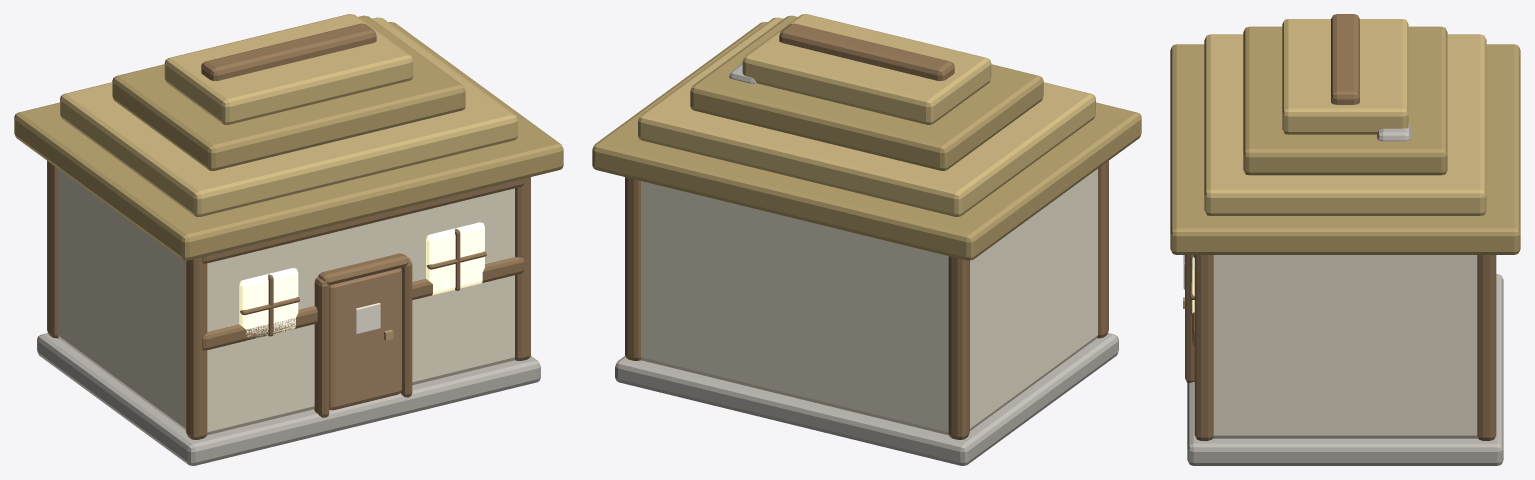
The model's file is cottage.glb.
The picture shows the model from 3 angles, left to right: view 1: azimuth 30°, elevation 25°; view 2: azimuth 150°, elevation 25°; view 3: azimuth 270°, elevation 25°; orthographic projection.
Parts seen in each view (by area): view 1: Body, Roof_1, Roof_2, Roof_3, Foundation, Roof_4, Door, Ridge, Beam_FL, Window_R, Window_L, Beam_Mid_F (+7 smaller); view 2: Body, Roof_1, Roof_2, Roof_3, Foundation, Roof_4, Beam_BL, Ridge, Beam_BR, Beam_FL; view 3: Body, Roof_1, Roof_2, Roof_3, Roof_4, Foundation, Beam_BR, Beam_FR, Ridge, Door_Frame_R, Chimney.
Boxes of the visible parts, x1,y1,x2,y2 form: Body: (58, 169, 514, 435); Roof_1: (14, 22, 563, 260); Roof_2: (60, 17, 517, 216); Roof_3: (112, 15, 465, 170); Foundation: (37, 333, 540, 465); Roof_4: (164, 14, 413, 124); Door: (329, 268, 401, 410); Ridge: (201, 23, 376, 80); Beam_FL: (186, 257, 207, 439); Window_R: (426, 222, 484, 295); Window_L: (239, 268, 298, 339); Beam_Mid_F: (202, 257, 524, 350); Body: (641, 169, 1097, 435); Roof_1: (592, 22, 1141, 260); Roof_2: (638, 17, 1095, 216); Roof_3: (690, 15, 1043, 170); Foundation: (615, 333, 1118, 465); Roof_4: (742, 14, 991, 124); Beam_BL: (948, 256, 969, 439); Ridge: (779, 23, 954, 80); Beam_BR: (625, 177, 640, 360); Beam_FL: (1097, 161, 1108, 338); Body: (1213, 255, 1477, 438); Roof_1: (1170, 44, 1520, 254); Roof_2: (1204, 34, 1486, 215); Roof_3: (1243, 26, 1447, 175); Roof_4: (1282, 19, 1408, 134); Foundation: (1187, 274, 1503, 465); Beam_BR: (1477, 255, 1496, 440); Beam_FR: (1194, 255, 1213, 440); Ridge: (1331, 14, 1359, 104); Door_Frame_R: (1185, 255, 1194, 383); Chimney: (1377, 124, 1410, 141).
Size of the model in its own units: 1.84 by 1.49 by 1.44.
